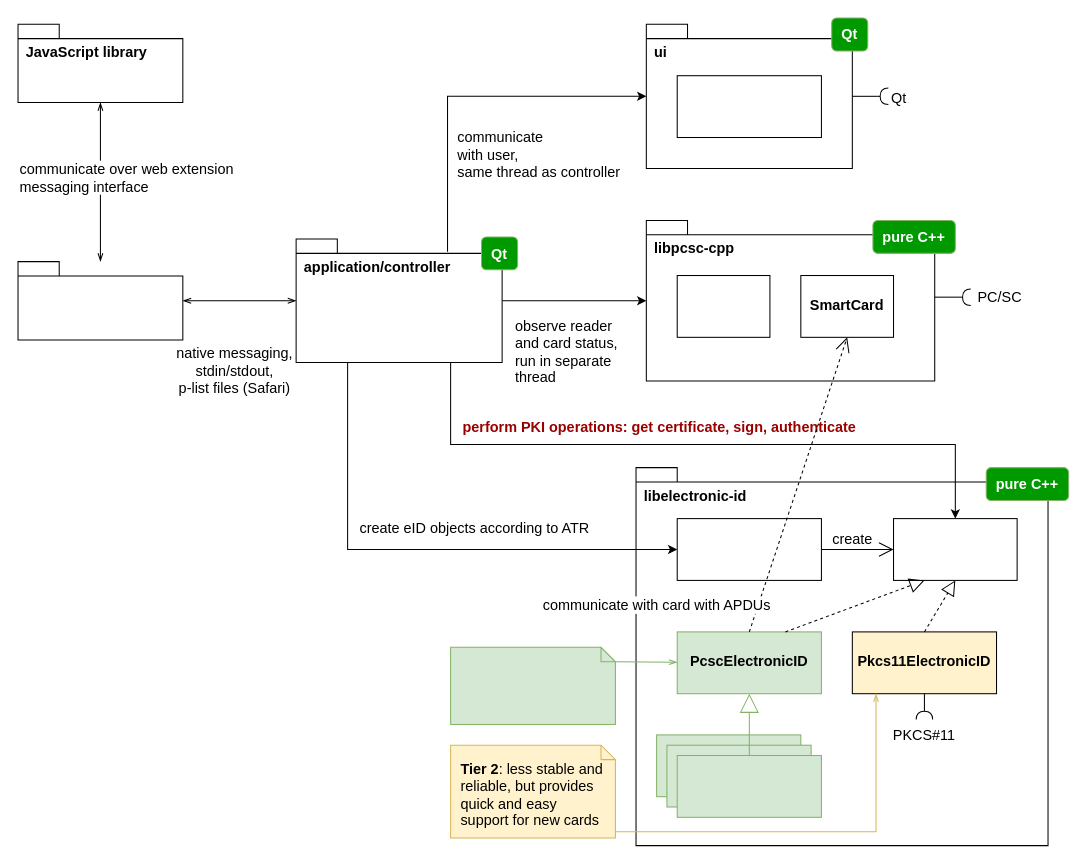
The diagram is 1087 pixels wide and 864 high, and some of its shapes have lost their labels. The shapes that lost their labels are listed below. From the top down, each one's centre as x and y in pixels, then its label:
At (x=748, y=106): "WebEidDialog".
At (x=100, y=300): "Browser extension".
At (x=723, y=305): "Reader".
At (x=748, y=549): "«factory» getElectronicID()".
At (x=954, y=549): "«interface» ElectronicID".
At (x=532, y=685): "Tier 1 : stable and reliable, officially supported".
At (x=748, y=785): "EstEIDIDEMIAV1".
